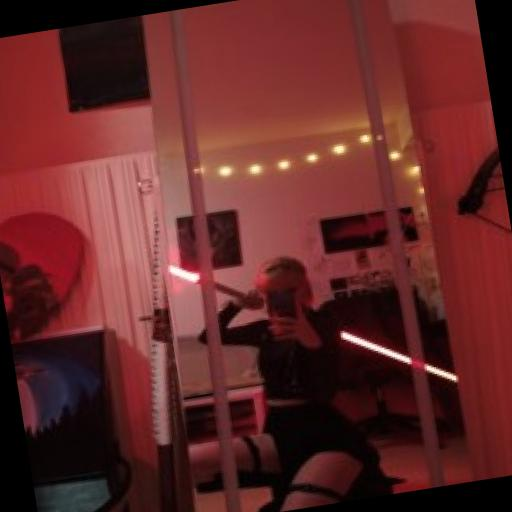human: (156, 252, 372, 512)
sith saber: (163, 220, 457, 422)
